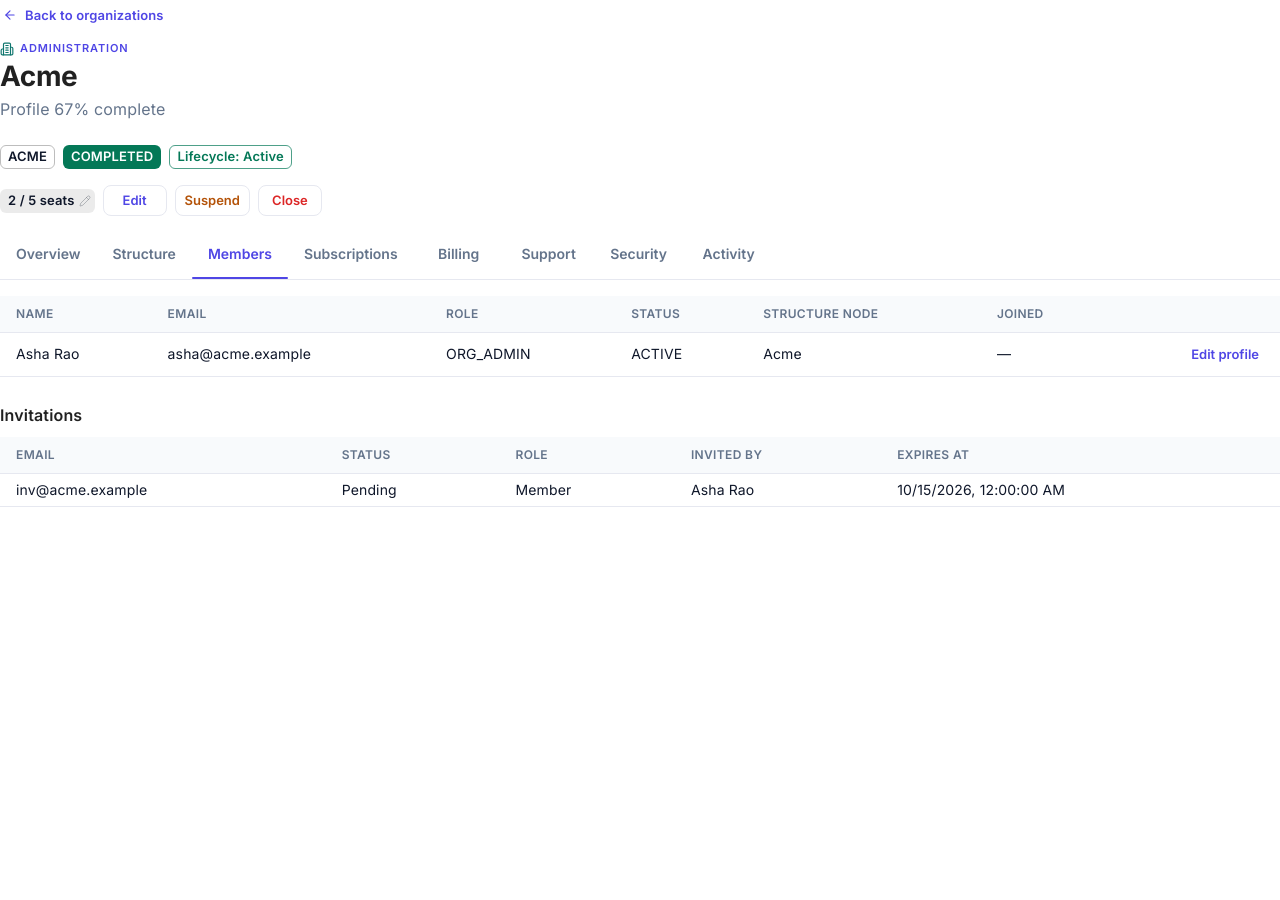
AdminOrganizationDetailPage — organization › lets a platform administrator edit a member's profile from the members list (C107)
Click the button with aria-label "Edit profile of Asha Rao" at (1225,354), box [1186, 339, 1264, 370]
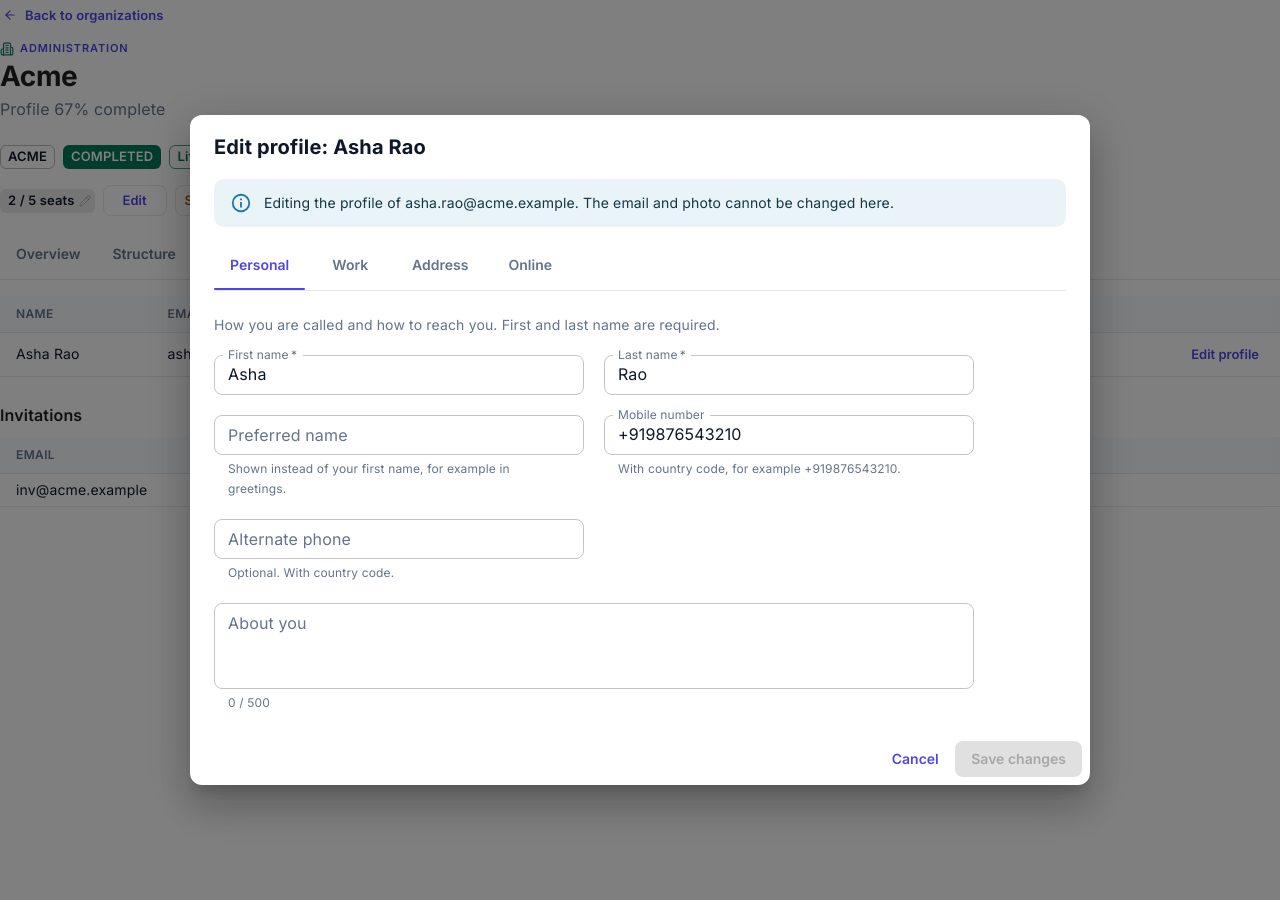
Now the field labelled "First name *" holds "Asha", box [214, 355, 584, 395]
Click the button "Cancel" at (915,759), box [883, 741, 947, 777]
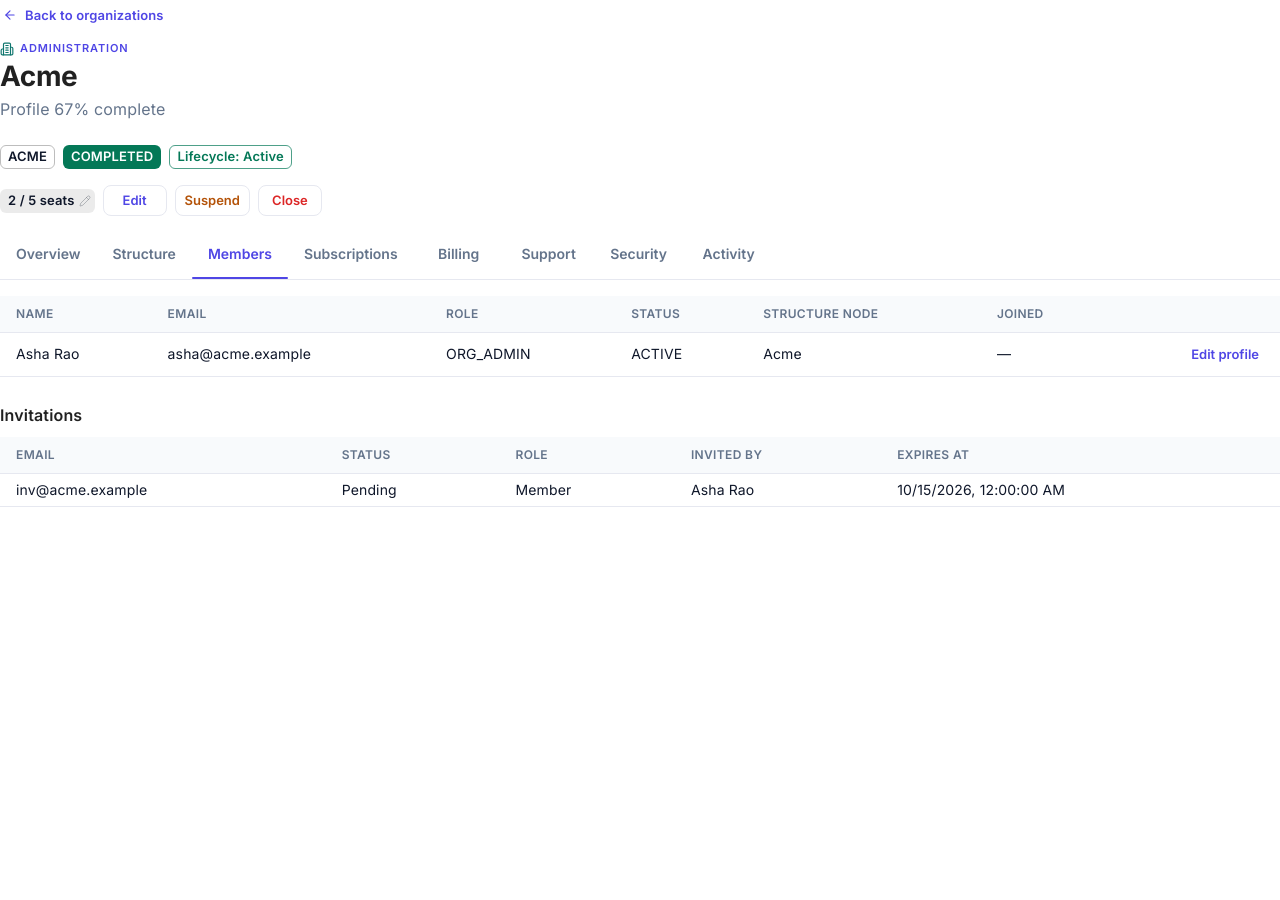
Now the dialog is gone
